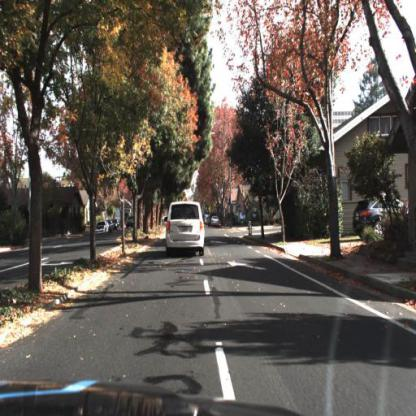car: (351, 188, 409, 244), (161, 196, 211, 260), (94, 218, 110, 237), (97, 219, 110, 237)
